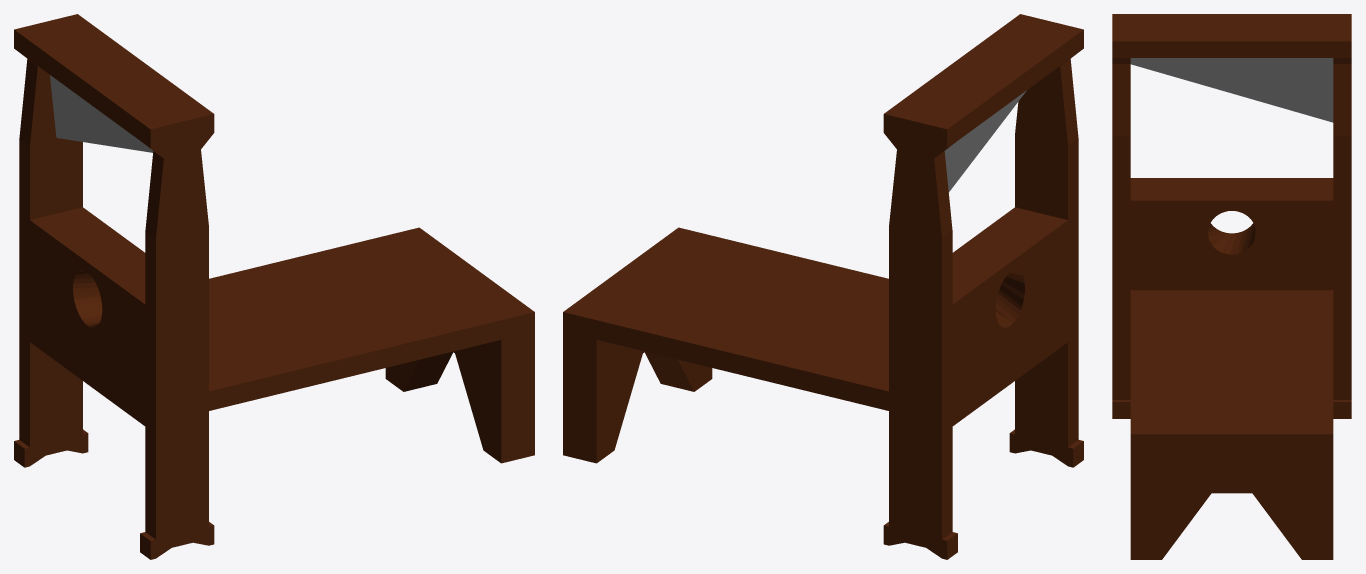
File: GUILLOTINE.fbx
The picture shows the model from 3 angles, left to right: view 1: azimuth 30°, elevation 25°; view 2: azimuth 150°, elevation 25°; view 3: azimuth 270°, elevation 25°; orthographic projection. The views are drawn at different scales.
Visible parts, largest first — view 1: Cube; view 2: Cube; view 3: Cube.
Boxes of the visible parts, box(x1,y1,x2,y2) form: Cube: box(14, 14, 534, 559); Cube: box(563, 14, 1083, 559); Cube: box(1112, 14, 1351, 559).
Bounding box in the file's own units: 4342 × 4524 × 2600.
